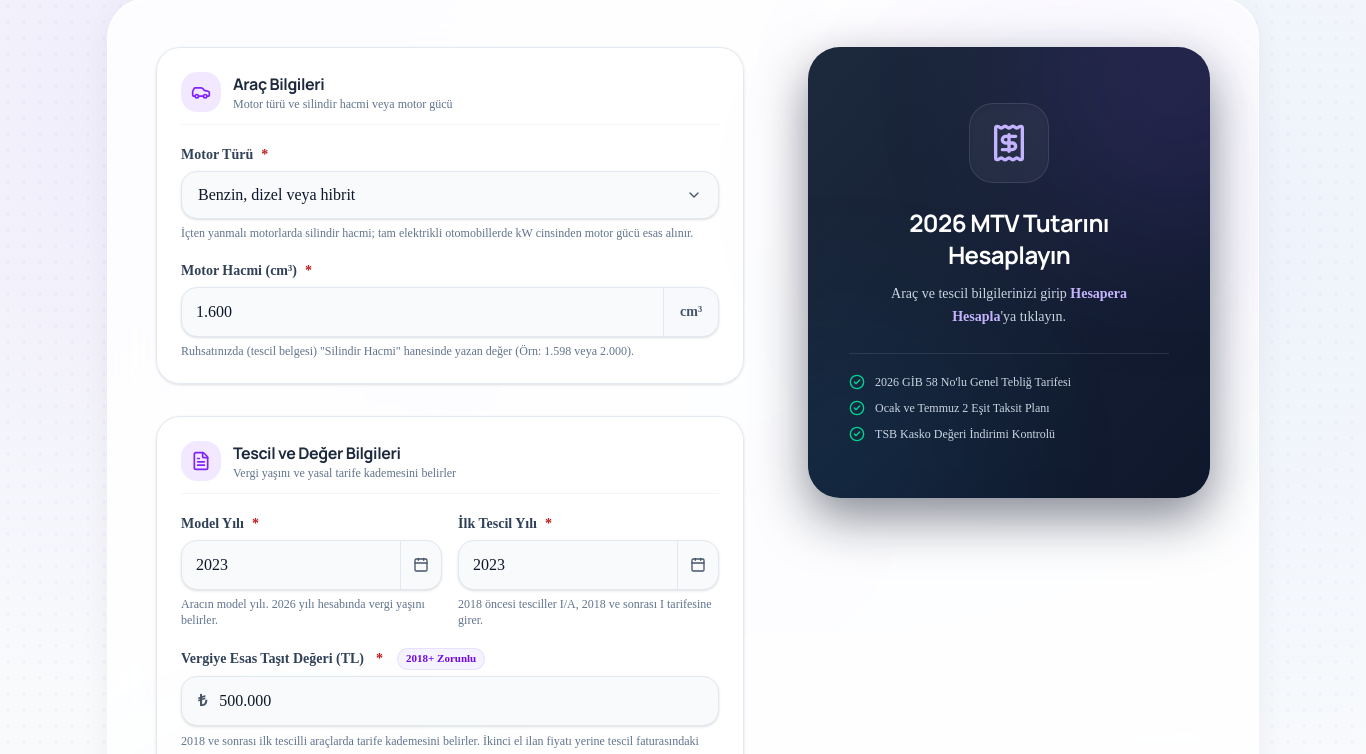
it: MTV Form Component (MtvForm) › 2. 2.000 motor hacmi geçerliliğini ve model/tescil yılı 2023 biçimini koruyarak hesaplama yapar
The image size is (1366, 754).
Replace the text in the field labelled "Motor Hacmi (cm³) *" with "2000" at (423, 312), box [182, 288, 663, 336]
(page scrolled)
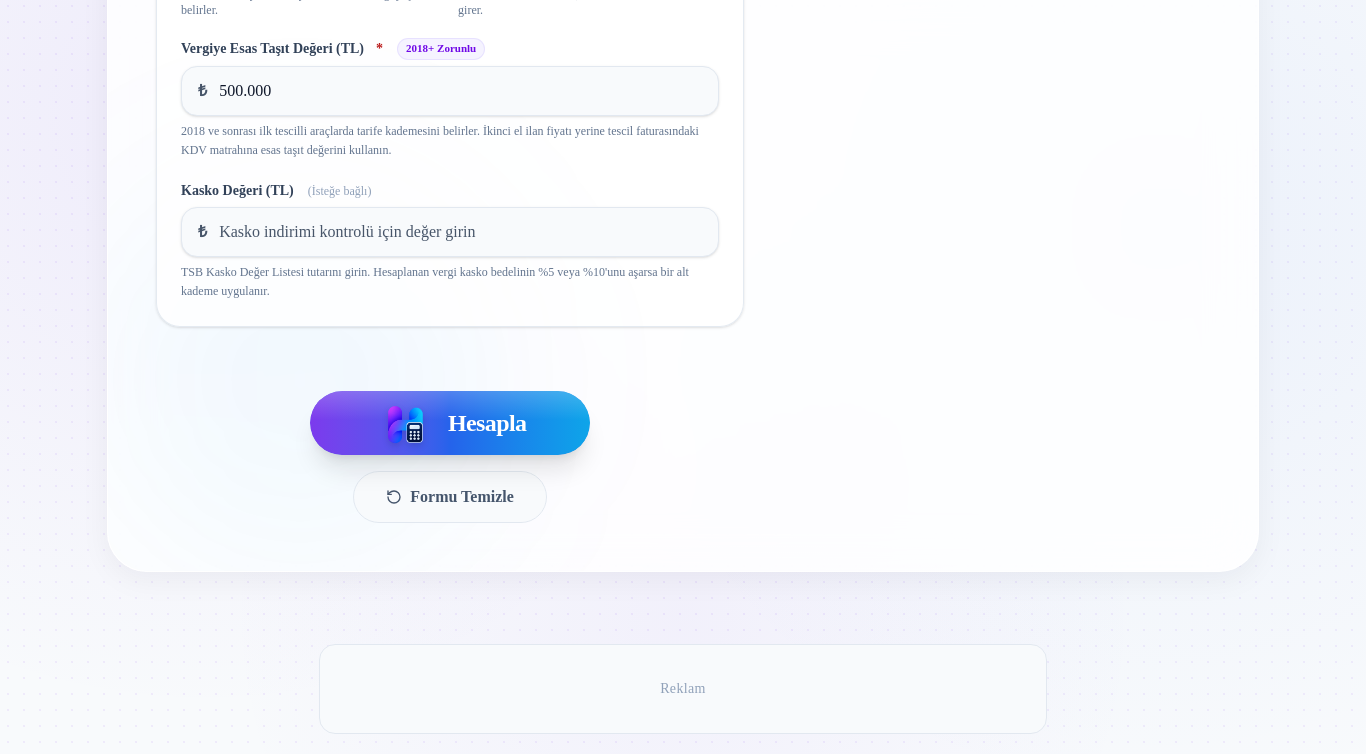
Click the button "Hesapla".
click(450, 423)  # box [310, 391, 590, 455]
(page scrolled)
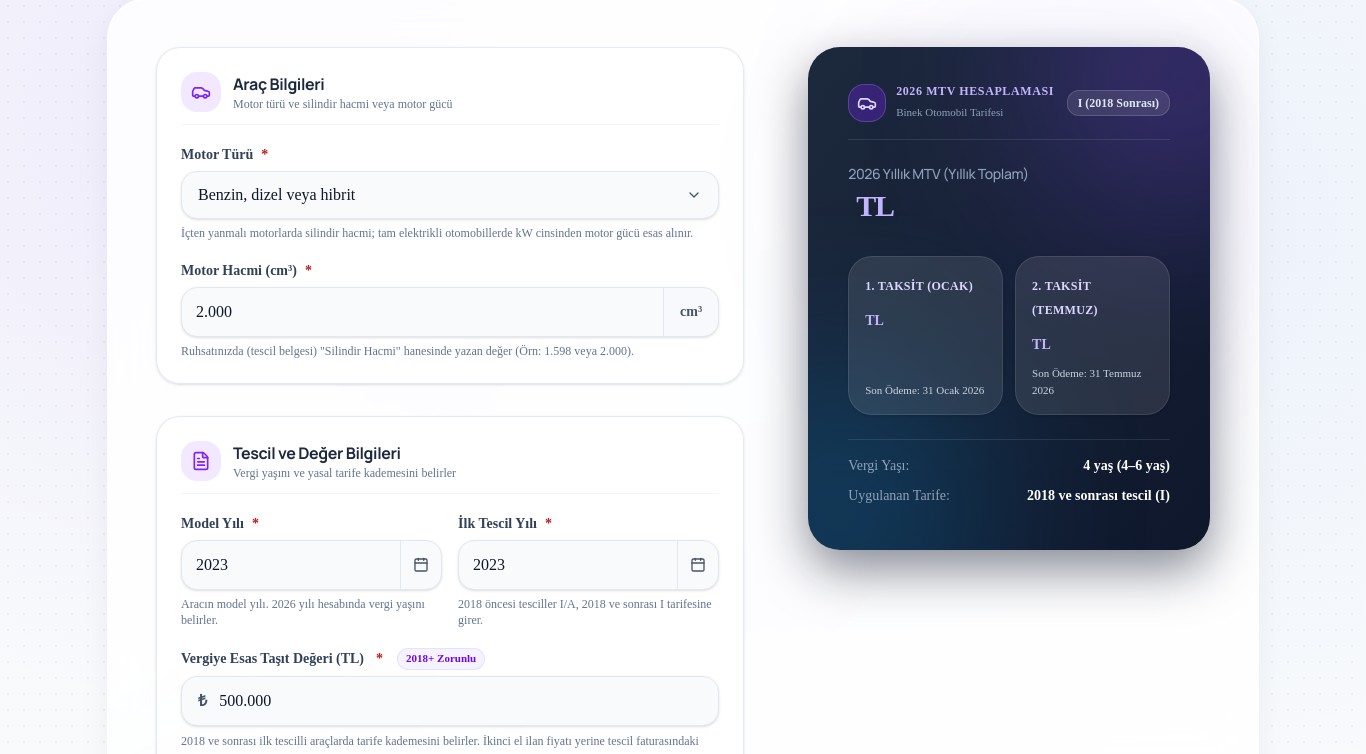
Expected: the text "1. Taksit (Ocak)" is shown, [865, 279, 973, 293]
Expected: the text "2. Taksit (Temmuz)" is shown, [1032, 279, 1098, 317]
